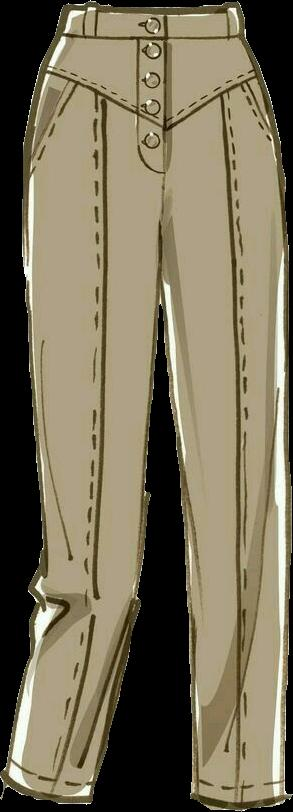Hemline: (0, 772, 90, 809), (188, 790, 287, 811)
Pantleg: (0, 2, 168, 803), (163, 4, 291, 810)
Waistline: (33, 68, 261, 137), (54, 26, 244, 41), (60, 0, 234, 14)
